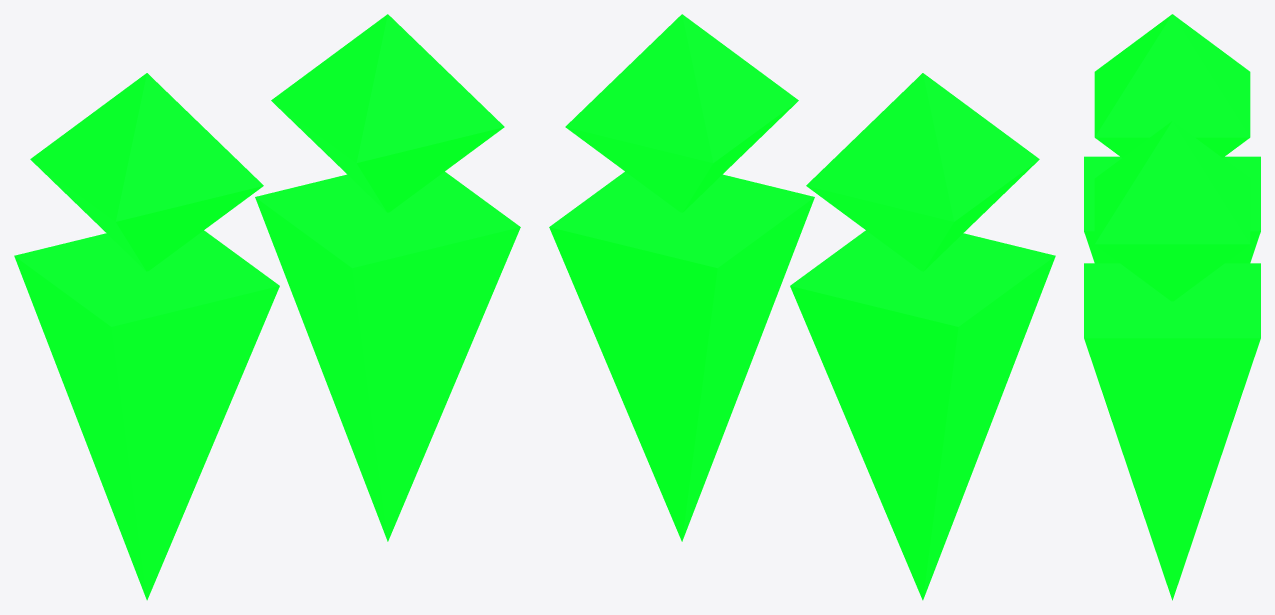
The model's file is person_g02.glb.
The picture shows the model from 3 angles, left to right: view 1: azimuth 30°, elevation 25°; view 2: azimuth 150°, elevation 25°; view 3: azimuth 270°, elevation 25°; orthographic projection. The views are drawn at different scales.
Visible parts, largest first — view 1: person.012, person.011; view 2: person.012, person.011; view 3: person.011, person.012.
Boxes of the visible parts, <box> form: person.012: <box>14,73,279,600</box>; person.011: <box>255,14,520,541</box>; person.012: <box>790,73,1055,600</box>; person.011: <box>549,14,814,541</box>; person.011: <box>1084,121,1260,600</box>; person.012: <box>1084,14,1260,263</box>.
Bounding box in the file's own units: 1.7 × 2.1 × 0.7.
